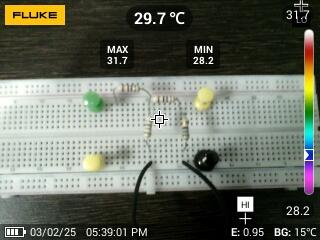resistor: (149, 93, 178, 107), (178, 115, 192, 144), (142, 113, 155, 140), (115, 83, 143, 95)
